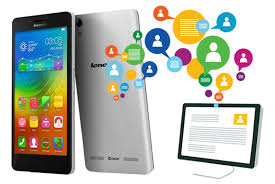lenovo: (6, 8, 76, 178)
